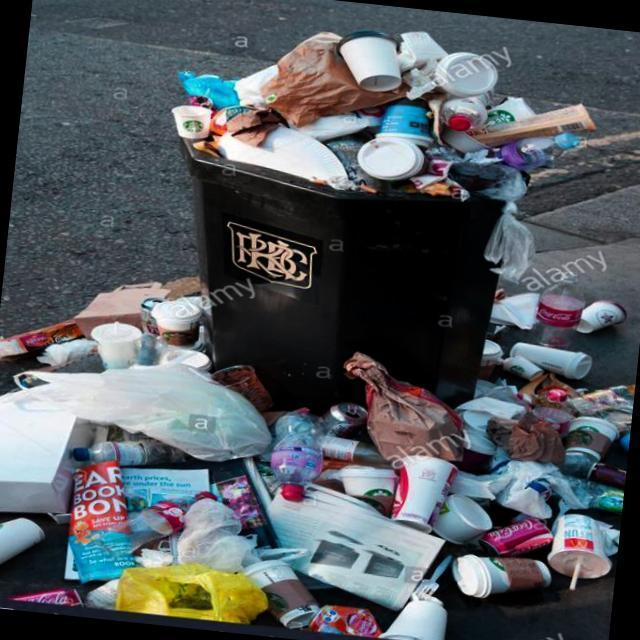garbage: (0, 344, 632, 640), (153, 0, 600, 223), (468, 251, 640, 412), (70, 256, 232, 364)
